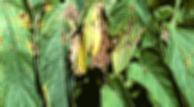Tomato leaf bacterial spot: (35, 0, 83, 107), (0, 0, 44, 107), (111, 0, 149, 81), (161, 20, 194, 107)
